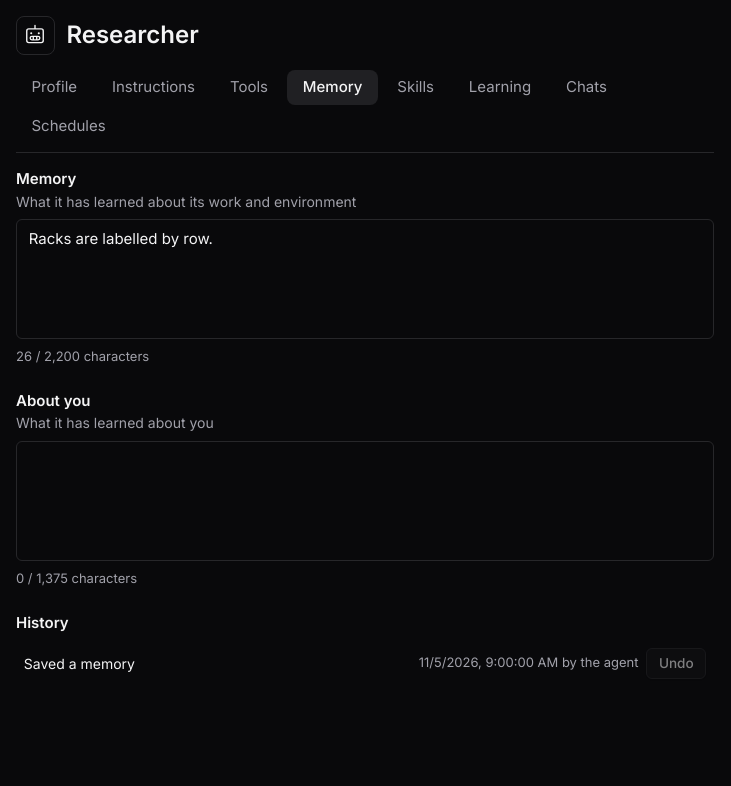
Scenario: AgentPage › test a read-only agent disables memory and learning fields
Click the tab "Learning" at (500, 88), box [453,70,546,105]
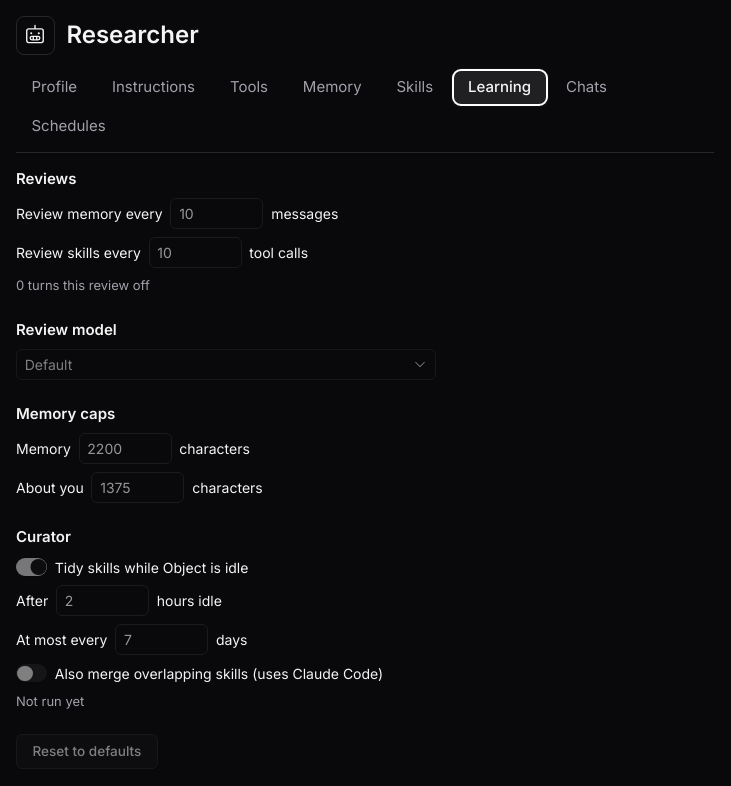
Check: the number of number fields is 6, box [170,198,263,229]; [149,237,242,268]; [79,433,172,464]; [92,472,184,503]; [56,585,149,616]; [115,624,208,655]
Check: the number field labelled "Review memory every messages" is disabled, box [170,198,263,229]
Check: the number field labelled "Review skills every tool calls" is disabled, box [149,237,242,268]
